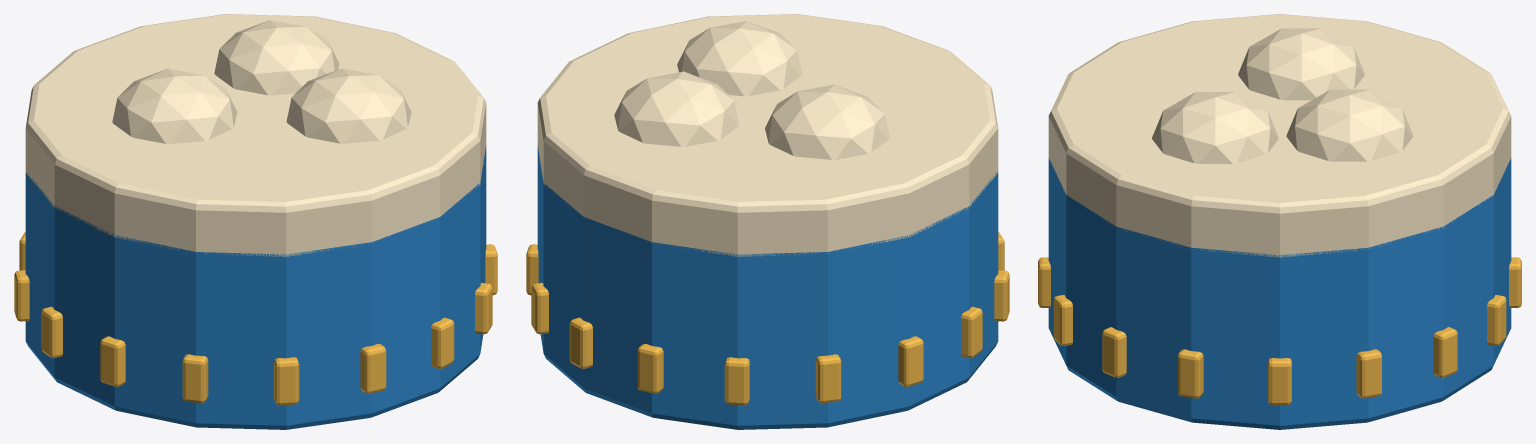
File: ram_cake_baked.glb
3 views of the same model, side by side, from view 1: azimuth 30°, elevation 25°; view 2: azimuth 150°, elevation 25°; view 3: azimuth 270°, elevation 25° (orthographic).
Visible parts, largest first — view 1: Cake, Frosting, Frosting rosette.002, Frosting rosette, Frosting rosette.001, Contact.010, Contact.012, Contact.011, Contact.009, Contact.013, Contact.008, Contact.014 (+2 smaller); view 2: Cake, Frosting, Frosting rosette.001, Frosting rosette, Frosting rosette.002, Contact.006, Contact.004, Contact.005, Contact.007, Contact.003, Contact.008, Contact.002 (+2 smaller); view 3: Cake, Frosting, Frosting rosette.001, Frosting rosette.002, Frosting rosette, Contact.001, Contact.015, Contact.002, Contact.014, Contact, Contact.003, Contact.013 (+2 smaller).
Part boxes in pixels (x1=…): Cake: x1=25, y1=145, x2=486, y2=429; Frosting: x1=25, y1=14, x2=486, y2=256; Frosting rosette.002: x1=286, y1=68, x2=411, y2=143; Frosting rosette: x1=112, y1=68, x2=237, y2=143; Frosting rosette.001: x1=214, y1=20, x2=339, y2=95; Contact.010: x1=182, y1=354, x2=208, y2=403; Contact.012: x1=360, y1=343, x2=386, y2=393; Contact.011: x1=274, y1=357, x2=299, y2=405; Contact.009: x1=100, y1=336, x2=125, y2=386; Contact.013: x1=431, y1=317, x2=454, y2=368; Contact.008: x1=41, y1=306, x2=62, y2=358; Contact.014: x1=475, y1=283, x2=492, y2=334; Cake: x1=537, y1=145, x2=998, y2=429; Frosting: x1=537, y1=14, x2=998, y2=256; Frosting rosette.001: x1=614, y1=71, x2=739, y2=146; Frosting rosette: x1=765, y1=84, x2=889, y2=159; Frosting rosette.002: x1=677, y1=21, x2=801, y2=96; Contact.006: x1=815, y1=354, x2=841, y2=403; Contact.004: x1=637, y1=343, x2=663, y2=393; Contact.005: x1=724, y1=357, x2=749, y2=405; Contact.007: x1=898, y1=336, x2=923, y2=386; Contact.003: x1=569, y1=317, x2=592, y2=368; Contact.008: x1=961, y1=306, x2=982, y2=358; Contact.002: x1=531, y1=283, x2=548, y2=334; Cake: x1=1048, y1=158, x2=1511, y2=429; Frosting: x1=1048, y1=14, x2=1511, y2=257; Frosting rosette.001: x1=1286, y1=89, x2=1413, y2=161; Frosting rosette.002: x1=1152, y1=92, x2=1278, y2=163; Frosting rosette: x1=1238, y1=28, x2=1364, y2=100; Contact.001: x1=1356, y1=349, x2=1381, y2=398; Contact.015: x1=1178, y1=349, x2=1203, y2=398; Contact.002: x1=1433, y1=327, x2=1457, y2=377; Contact.014: x1=1102, y1=327, x2=1126, y2=377; Contact: x1=1268, y1=358, x2=1291, y2=405; Contact.003: x1=1487, y1=295, x2=1506, y2=345; Contact.013: x1=1053, y1=295, x2=1072, y2=345.
Size of the model in its own units: 0.899 by 0.549 by 0.899.
